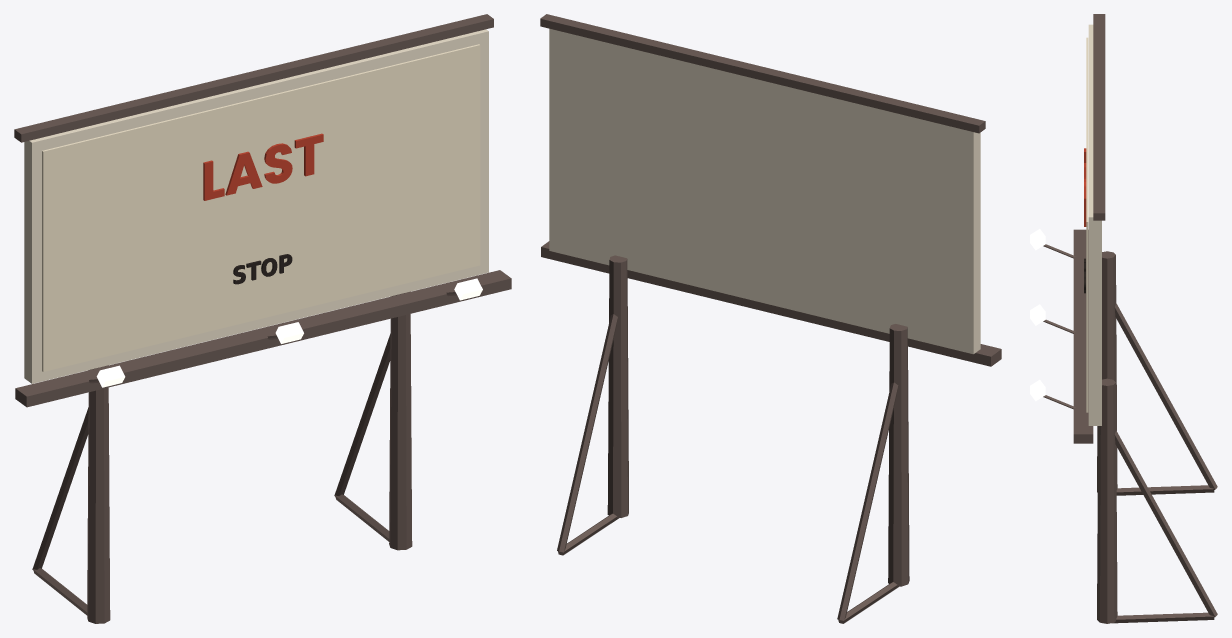
File: billboard_2.glb
3 renders of one model, left to right at view 1: azimuth 30°, elevation 25°; view 2: azimuth 150°, elevation 25°; view 3: azimuth 270°, elevation 25°, orthographic. The views are drawn at different scales.
Visible parts, largest first — view 1: billboard_2; view 2: billboard_2; view 3: billboard_2.
Part boxes in pixels (<box>): billboard_2: <box>14,14,511,623</box>; billboard_2: <box>540,14,1001,623</box>; billboard_2: <box>1030,14,1217,623</box>.
Bounding box in the file's own units: 12.2 × 12.38 × 4.73.
